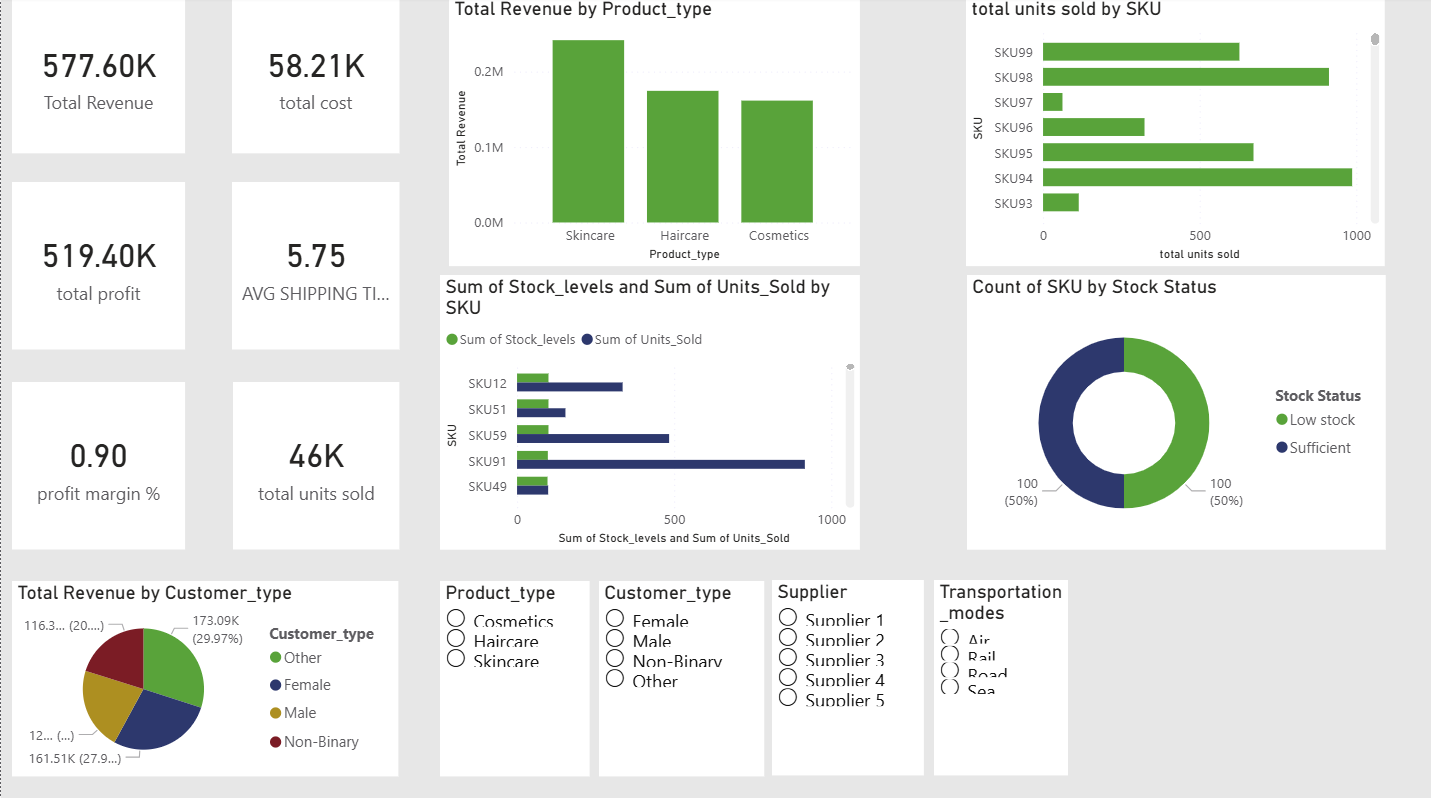

The page's visual inventory and layout, read from the dashboard file:
{"tool":"powerbi","page":{"name":"Sales and inventory overview","canvas":[1280,720],"ordinal":0},"visuals":[{"type":"card","fields":{"Values":["Dimension_customer.Total cost"]},"box":[10,315.3,125.7,97.8],"z":0},{"type":"card","fields":{"Values":["Dimension_customer.Total revenue"]},"box":[10,15,127.7,126.7],"z":1000},{"type":"card","fields":{"Values":["Dimension_customer.Profit mergin%"]},"box":[11,168.6,124.7,104.8],"z":2000},{"type":"card","fields":{"Values":["Dimension_customer.Total unit sold"]},"box":[162.6,15,160.6,126.7],"z":3000},{"type":"card","fields":{"Values":["Dimension_customer.Average Shipping time"]},"box":[162.6,168.6,160.6,104.8],"z":4000},{"type":"card","fields":{"Values":["Dimension_customer.Total profit"]},"box":[162.6,315.3,160.6,97.8],"z":5000},{"type":"clusteredColumnChart","fields":{"Category":["Dimension_product.Product_type"],"Y":["Dimension_customer.Total revenue"]},"box":[981.7,291.3,262.4,227.5],"z":6000},{"type":"barChart","fields":{"Y":["Dimension_customer.Total unit sold"],"Category":["Dimension_product.SKU"]},"box":[981.7,35.9,255.4,237.4],"z":7000},{"type":"clusteredBarChart","fields":{"Y":["Sum(Fact_supply_chain.units_sold)","Sum(Fact_supply_chain.Stock_levels)"],"Category":["Fact_supply_chain.SKU"]},"box":[538.7,63.9,402.1,401.1],"z":8000},{"type":"donutChart","fields":{"Category":["Fact_supply_chain.Stock_status"],"Y":["CountNonNull(Fact_supply_chain.SKU)"]},"box":[538.7,505.8,402.1,183.6],"z":9000},{"type":"pieChart","fields":{"Category":["Fact_supply_chain.Customer_type"],"Y":["Dimension_customer.Total revenue"]},"box":[981.7,539.7,262.4,172.6],"z":10000},{"type":"listSlicer","fields":{"Values":["Dimension_product.Product_type"]},"box":[16,464.9,146.7,224.5],"z":11000},{"type":"listSlicer","fields":{"Values":["Fact_supply_chain.Customer_type"]},"box":[180.6,464.9,160.6,212.5],"z":12000},{"type":"listSlicer","fields":{"Values":["Fact_supply_chain.Supplier"]},"box":[351.2,15,160.6,217.5],"z":13000},{"type":"listSlicer","fields":{"Values":["Fact_supply_chain.Transportation_modes"]},"box":[351,248,160.8,239.2],"z":14000}]}

Visuals, with their boxes in screenshot pixels (x1, y1, x2, y2), scaled from the page's 1280x720 canvas onto the 1431x798 screenshot:
card - Dimension_customer.Total cost: <bbox>11, 349, 152, 458</bbox>
card - Dimension_customer.Total revenue: <bbox>11, 17, 154, 157</bbox>
card - Dimension_customer.Profit mergin%: <bbox>12, 187, 152, 303</bbox>
card - Dimension_customer.Total unit sold: <bbox>182, 17, 361, 157</bbox>
card - Dimension_customer.Average Shipping time: <bbox>182, 187, 361, 303</bbox>
card - Dimension_customer.Total profit: <bbox>182, 349, 361, 458</bbox>
clusteredColumnChart - Dimension_product.Product_type x Dimension_customer.Total revenue: <bbox>1098, 323, 1391, 575</bbox>
barChart - Dimension_customer.Total unit sold x Dimension_product.SKU: <bbox>1098, 40, 1383, 303</bbox>
clusteredBarChart - Sum(Fact_supply_chain.units_sold) x Sum(Fact_supply_chain.Stock_levels): <bbox>602, 71, 1052, 515</bbox>
donutChart - Fact_supply_chain.Stock_status x CountNonNull(Fact_supply_chain.SKU): <bbox>602, 561, 1052, 764</bbox>
pieChart - Fact_supply_chain.Customer_type x Dimension_customer.Total revenue: <bbox>1098, 598, 1391, 789</bbox>
listSlicer - Dimension_product.Product_type: <bbox>18, 515, 182, 764</bbox>
listSlicer - Fact_supply_chain.Customer_type: <bbox>202, 515, 381, 751</bbox>
listSlicer - Fact_supply_chain.Supplier: <bbox>393, 17, 572, 258</bbox>
listSlicer - Fact_supply_chain.Transportation_modes: <bbox>392, 275, 572, 540</bbox>
